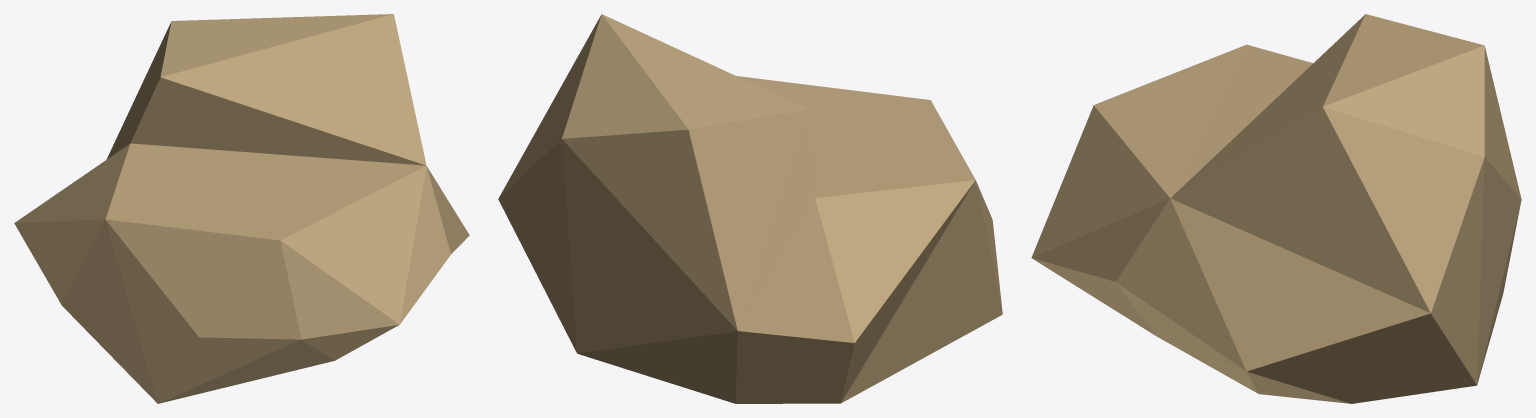
Rendered from Boulder-B07.fbx.
3 renders of one model, left to right at view 1: azimuth 30°, elevation 25°; view 2: azimuth 150°, elevation 25°; view 3: azimuth 270°, elevation 25°, orthographic. The views are drawn at different scales.
Visible parts, largest first — view 1: Boulder-B07; view 2: Boulder-B07; view 3: Boulder-B07.
Boxes of the visible parts, x1,y1,x2,y2 form: Boulder-B07: [14, 14, 469, 403]; Boulder-B07: [498, 14, 1002, 403]; Boulder-B07: [1031, 14, 1521, 403].
Size of the model in its own units: 120 by 80.52 by 118.
